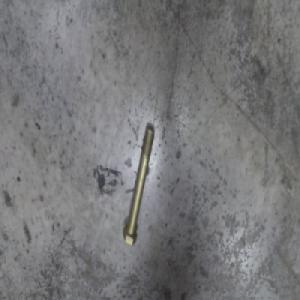Bolt: (122, 126, 156, 244)
